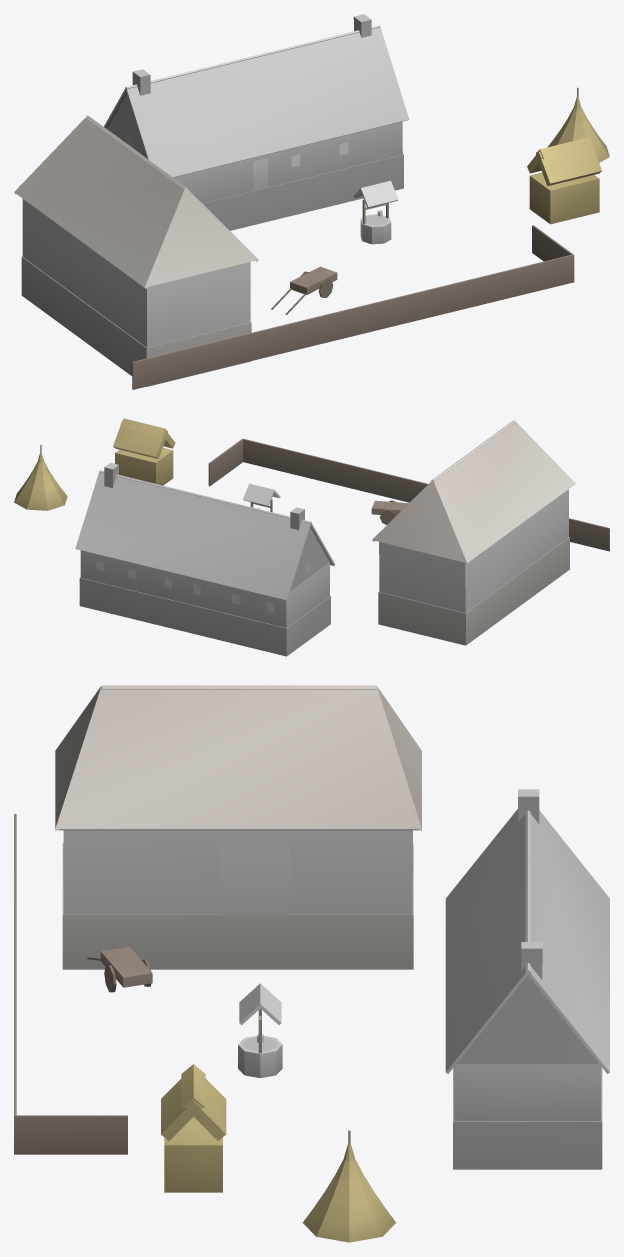
The model's file is farm_2.glb.
The picture shows the model from 3 angles, top to bottom: view 1: azimuth 30°, elevation 25°; view 2: azimuth 150°, elevation 25°; view 3: azimuth 270°, elevation 25°; orthographic projection. The views are drawn at different scales.
Parts seen in each view (by area): view 1: farm_2; view 2: farm_2; view 3: farm_2.
Part boxes in pixels (x1,y1,x2,y2): farm_2: (14, 14, 609, 389); farm_2: (14, 418, 609, 656); farm_2: (14, 685, 609, 1242).
Bounding box in the file's own units: 43.16 × 12.31 × 26.75.
